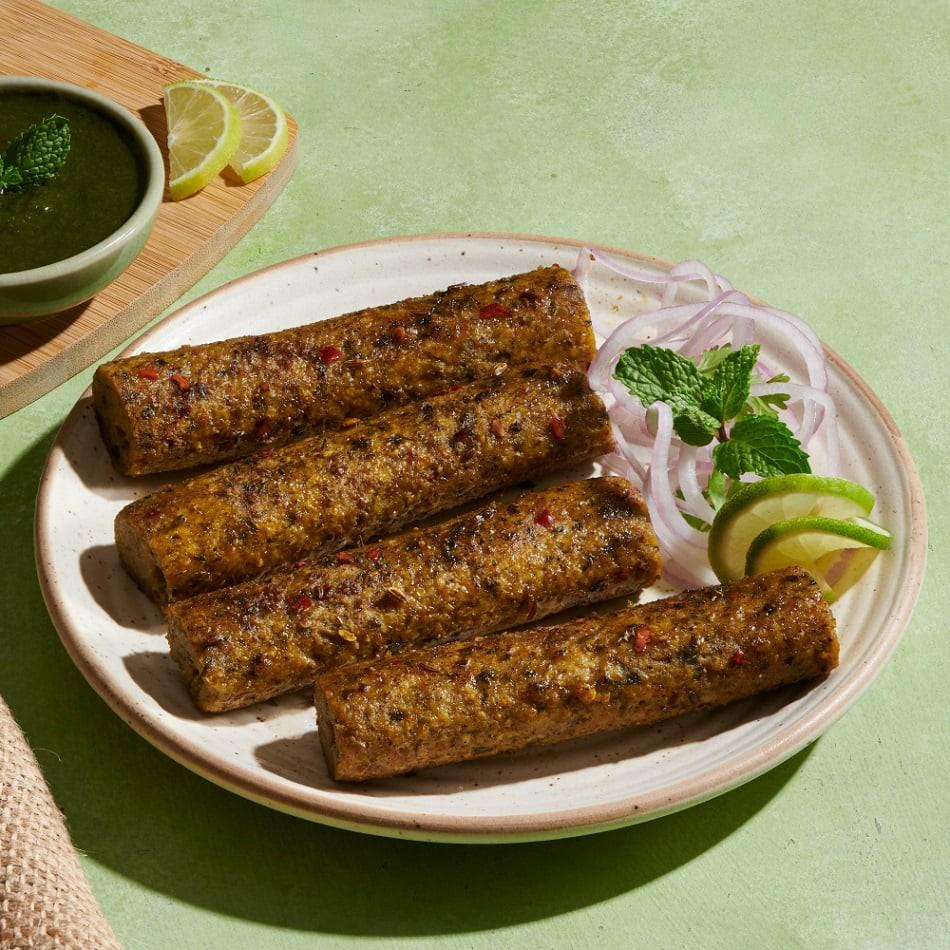GreenChutney: (0, 86, 151, 276)
Kebab: (114, 364, 610, 610), (171, 474, 664, 718), (317, 568, 841, 778), (95, 263, 597, 473)
